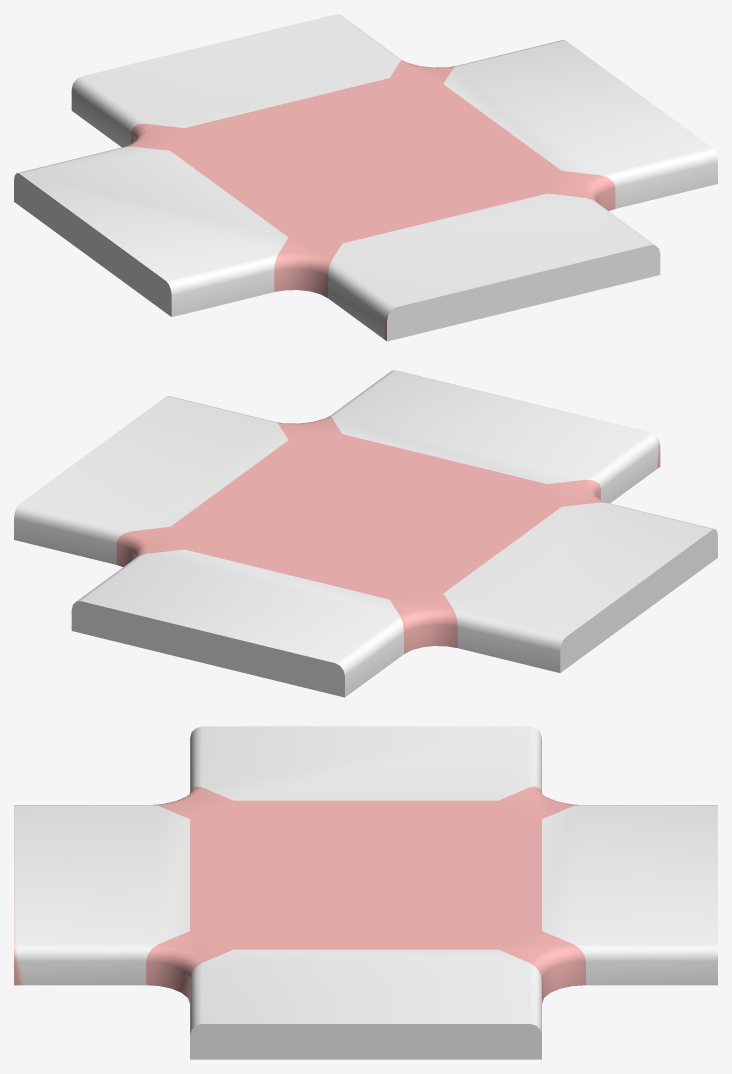
File: IntersectionBig_red.fbx
3 views of the same model, one above another, from view 1: azimuth 30°, elevation 25°; view 2: azimuth 150°, elevation 25°; view 3: azimuth 270°, elevation 25° (orthographic). The views are drawn at different scales.
Parts seen in each view (by area): view 1: IntersectionBig_red; view 2: IntersectionBig_red; view 3: IntersectionBig_red.
Boxes of the visible parts, bbox=[...] form: IntersectionBig_red: bbox=[14, 14, 717, 341]; IntersectionBig_red: bbox=[14, 370, 717, 697]; IntersectionBig_red: bbox=[14, 726, 717, 1059].
Size of the model in its own units: 600 by 33.61 by 600.
1 material, 1 textured.
